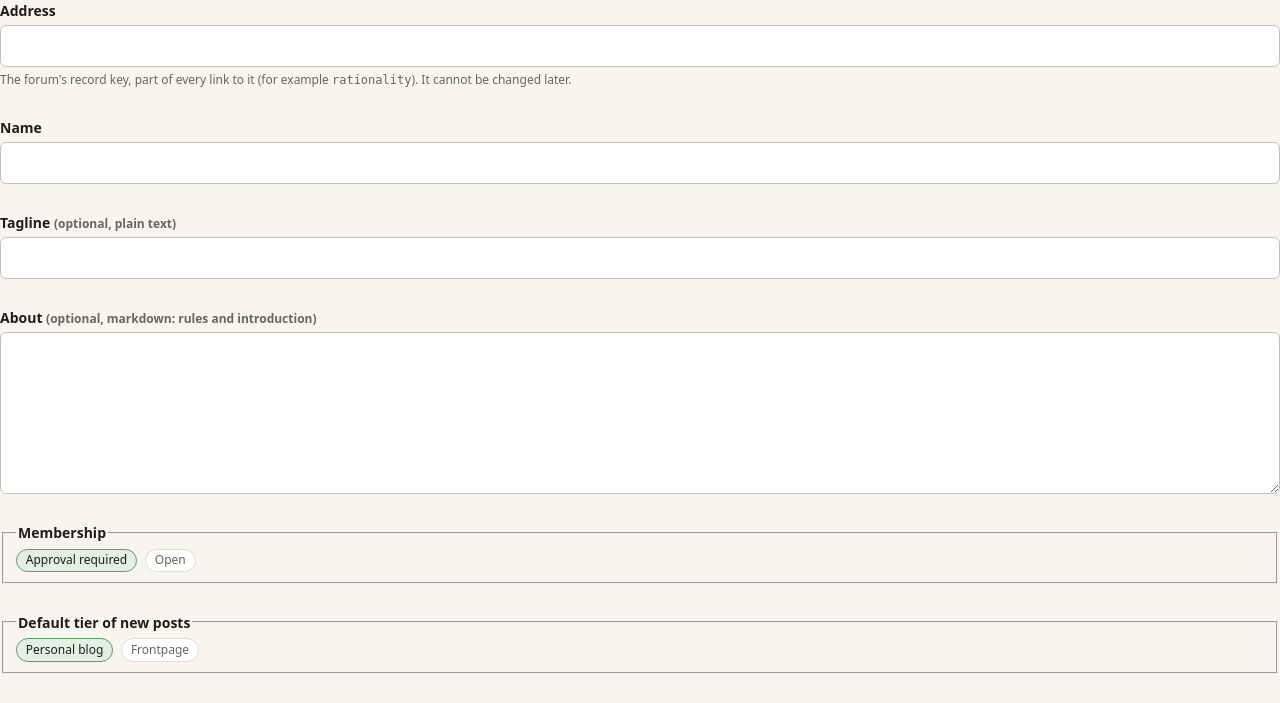
Scenario: open-mode label › is shown in the forum form when Open is chosen
This screenshot has width=1280, height=703.
Click the radio button labelled "Open". click: (170, 560)
box: [145,549,196,572]
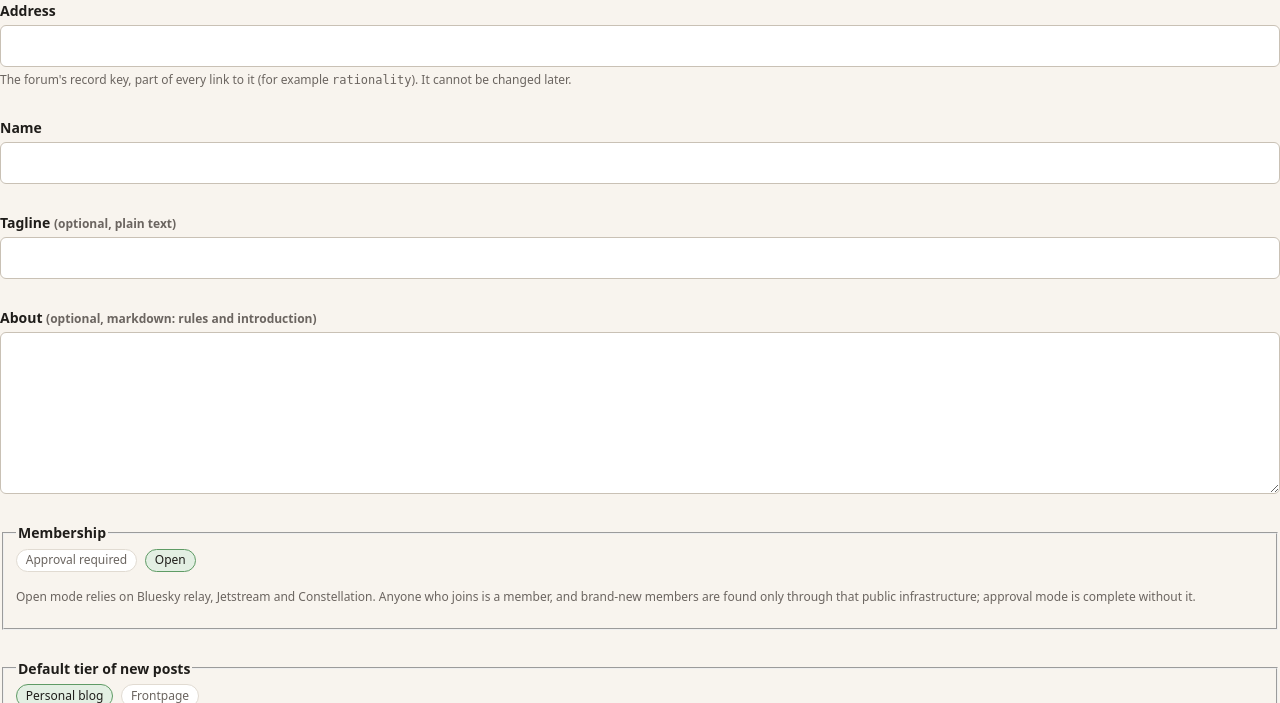
Now the text with test id "open-mode-label" shows "Open mode relies on Bluesky relay, Jetstream and Constellation.", box [16,588,376,605]
